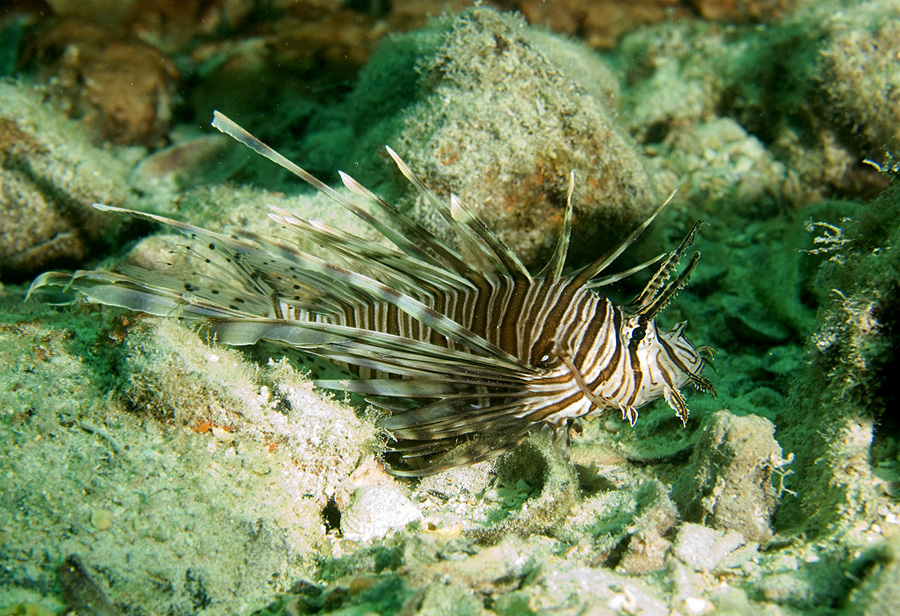Pterois_volitans: (126, 93, 752, 493)
